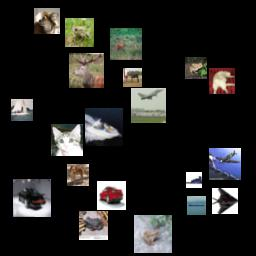airplane: (131, 88, 166, 123), (209, 148, 241, 180), (212, 188, 238, 214), (186, 172, 202, 188)
automobile: (13, 179, 51, 217), (97, 181, 126, 210)
cat: (51, 124, 83, 156), (209, 68, 235, 94)
deer: (69, 53, 104, 88), (110, 28, 142, 60)
dog: (34, 8, 60, 34), (67, 164, 89, 186)
frog: (134, 215, 172, 253), (79, 211, 108, 240), (65, 18, 94, 47), (185, 57, 207, 79)
ship: (85, 108, 123, 146), (11, 99, 33, 121), (187, 196, 206, 215)
